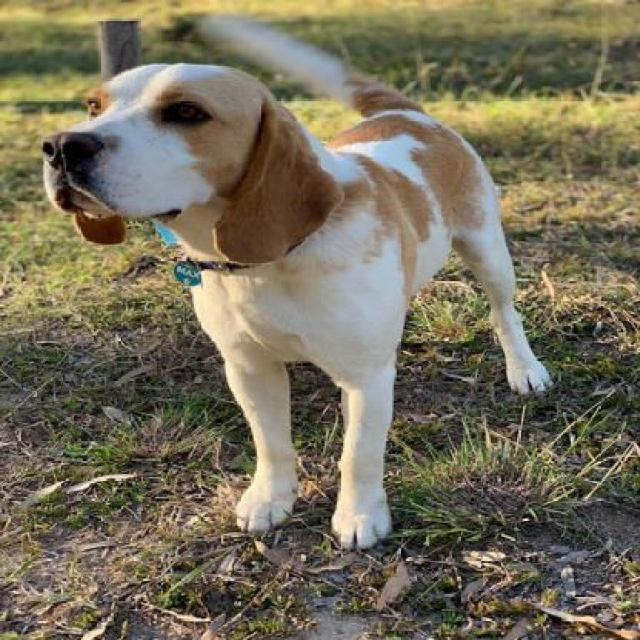Dog: (38, 11, 557, 554)
